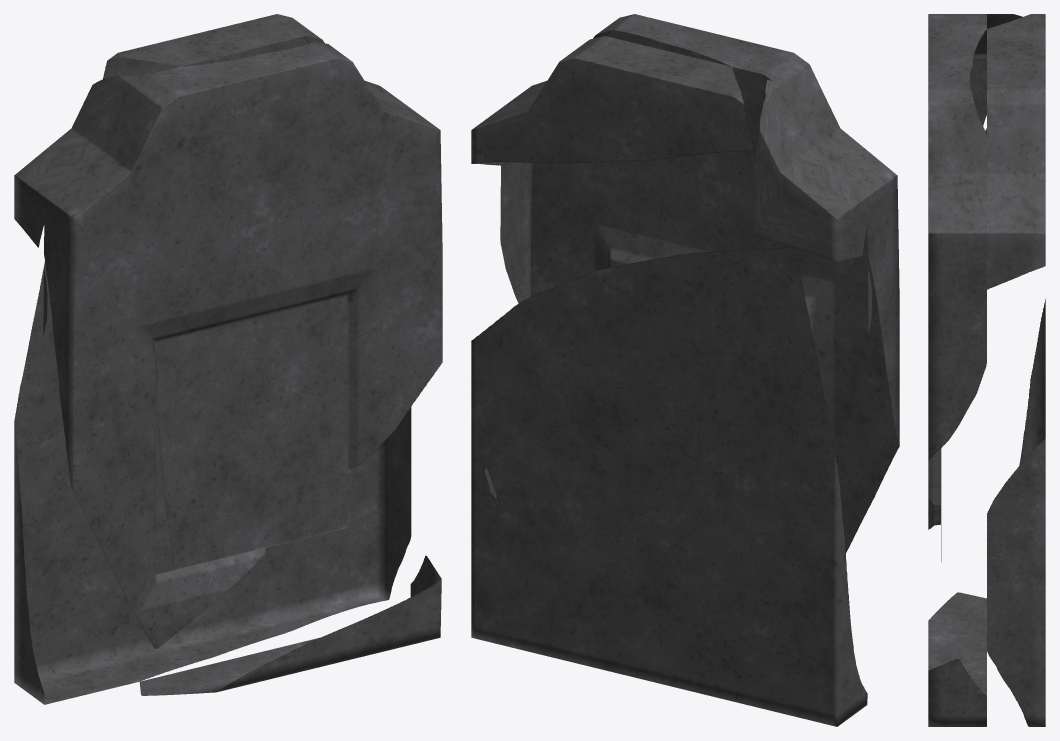
Rendered from stone_07.fbx.
The picture shows the model from 3 angles, left to right: view 1: azimuth 30°, elevation 25°; view 2: azimuth 150°, elevation 25°; view 3: azimuth 270°, elevation 25°; orthographic projection. The views are drawn at different scales.
Visible parts, largest first — view 1: stone_07; view 2: stone_07; view 3: stone_07.
Part boxes in pixels (left/top/right/bottom): stone_07: left=14, top=14, right=442, bottom=704; stone_07: left=471, top=14, right=899, bottom=726; stone_07: left=928, top=14, right=1045, bottom=726.
Bounding box in the file's own units: 77.92 × 122 × 22.
